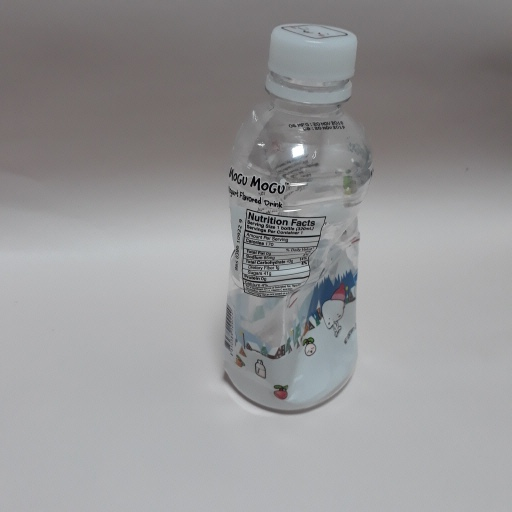Plastic_0: (218, 23, 374, 413)
